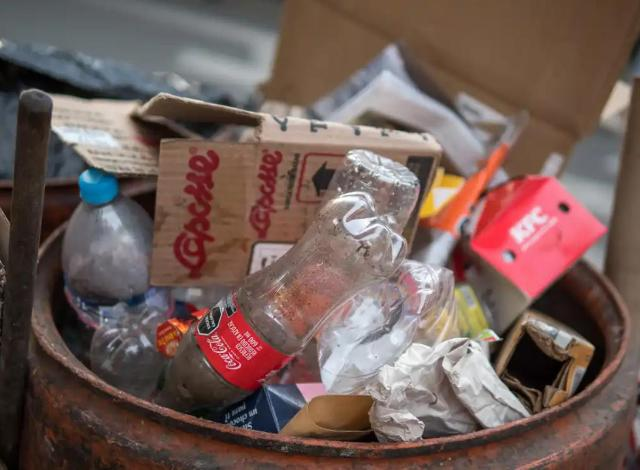Garbage: (53, 45, 610, 443)
Plastic_bottle: (156, 191, 408, 412), (316, 260, 457, 394), (61, 169, 154, 328), (91, 301, 191, 399), (322, 150, 420, 234), (454, 284, 489, 338)
